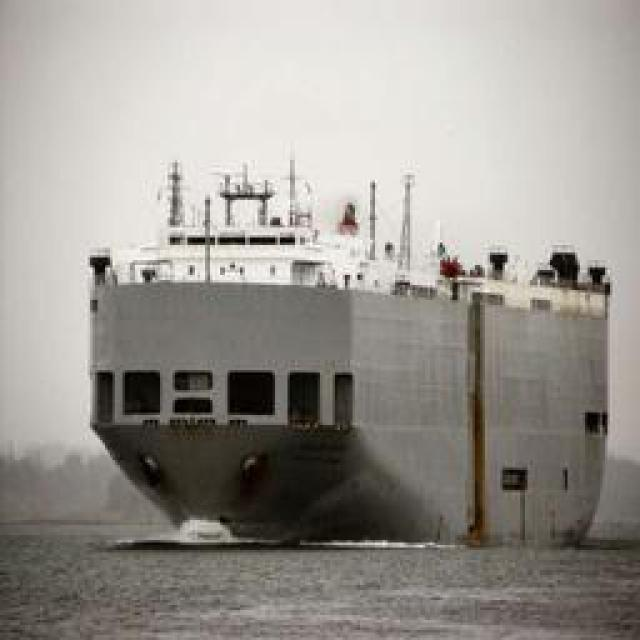Ship: (63, 138, 627, 559)
